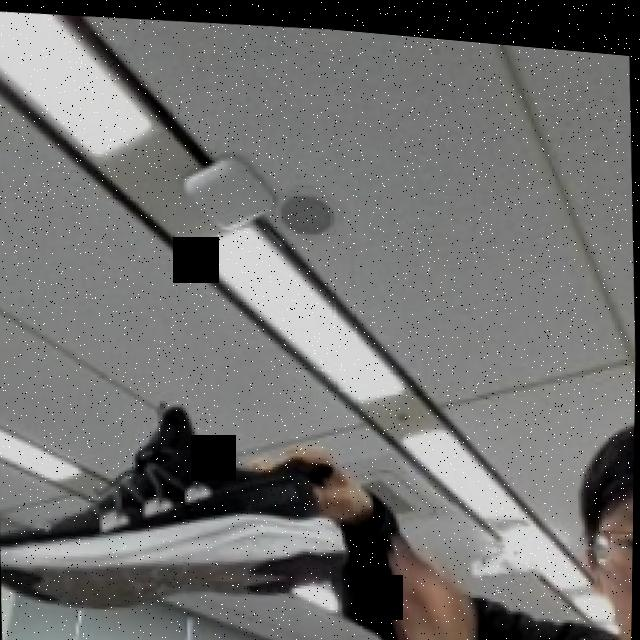shoes: (25, 356, 359, 640)
